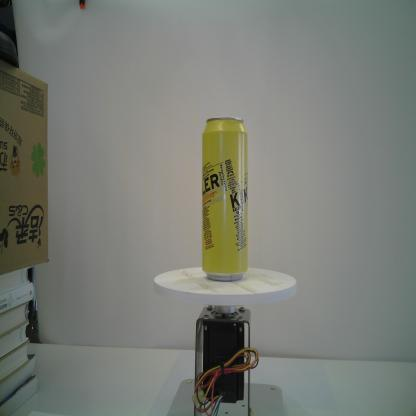Alcohol: (201, 116, 248, 283)
